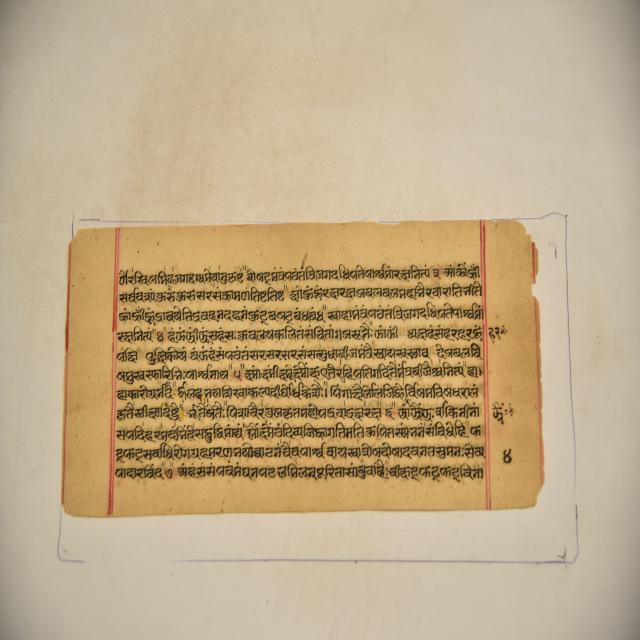text_paragraph: (61, 223, 542, 515)
